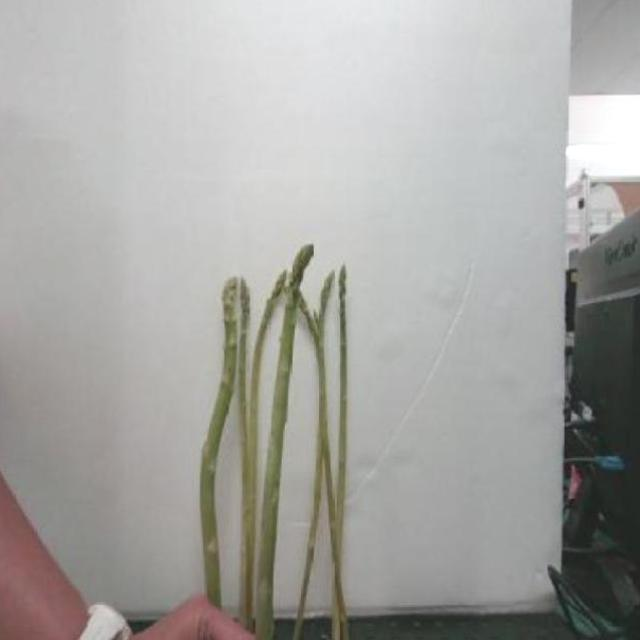aspargus: (256, 246, 314, 640), (199, 274, 239, 614)
